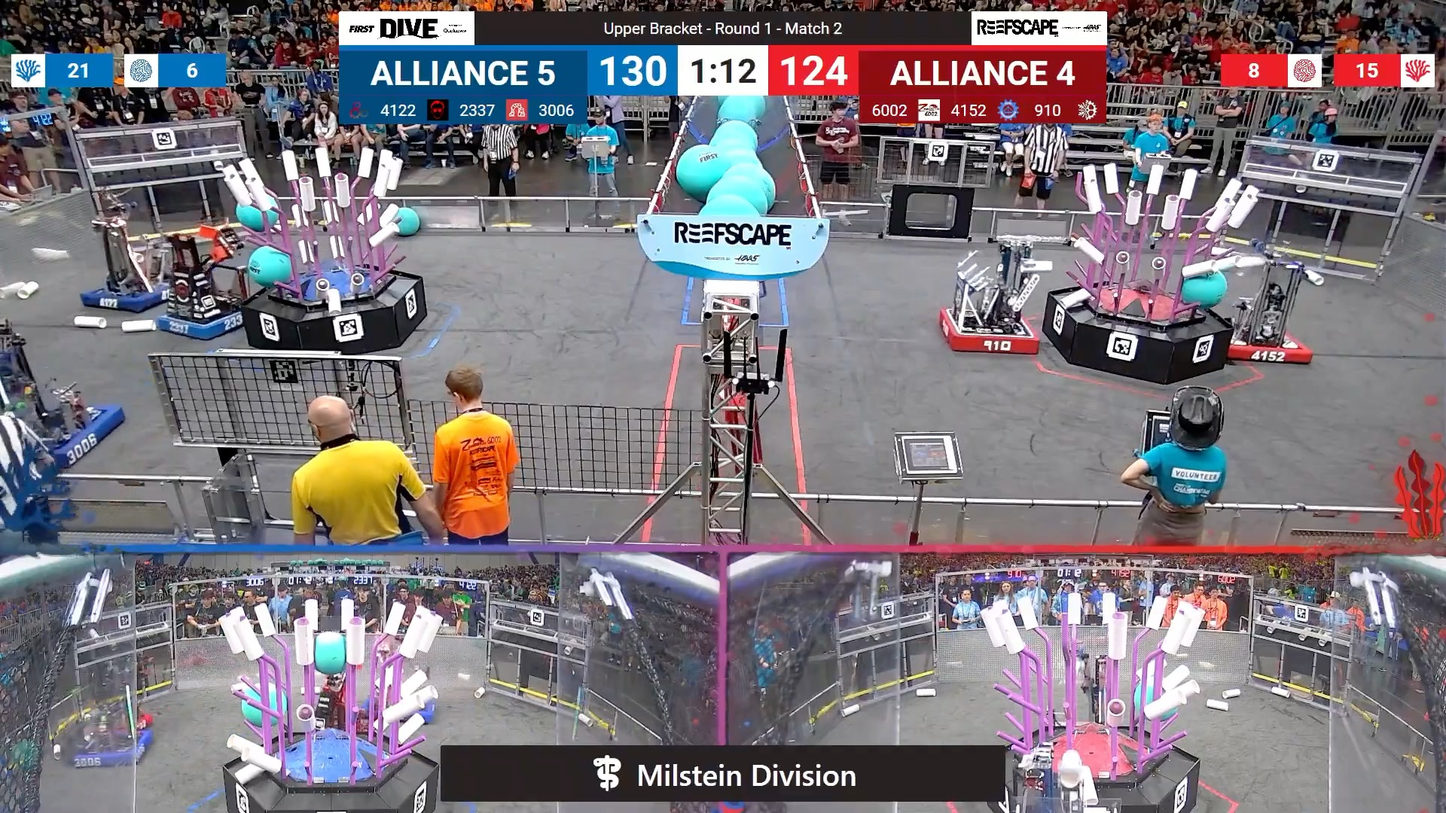bumpers: (2, 396, 136, 472), (935, 303, 1046, 360), (153, 286, 247, 347), (1217, 320, 1319, 370), (68, 719, 157, 776), (78, 273, 194, 316)
